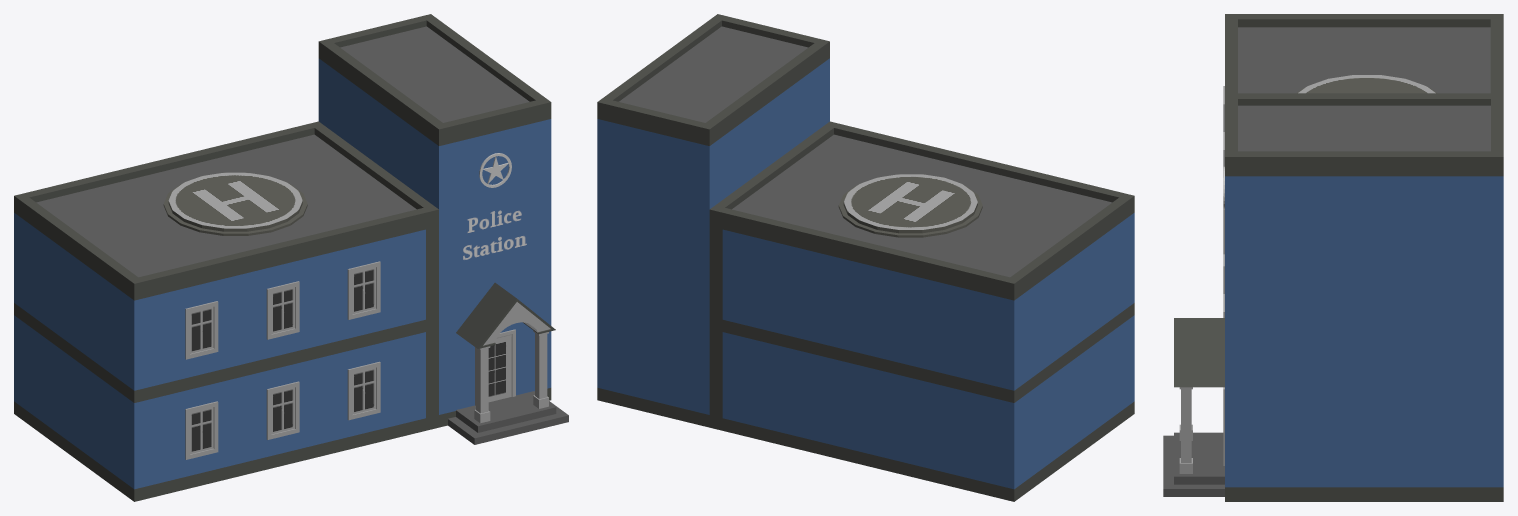
File: spb-police-station.glb
3 renders of one model, left to right at view 1: azimuth 30°, elevation 25°; view 2: azimuth 150°, elevation 25°; view 3: azimuth 270°, elevation 25°, orthographic. The views are drawn at different scales.
Parts seen in each view (by area): view 1: SPB_Police Station; view 2: SPB_Police Station; view 3: SPB_Police Station.
Boxes of the visible parts, <box> form: SPB_Police Station: <box>14,14,568,501</box>; SPB_Police Station: <box>597,14,1134,501</box>; SPB_Police Station: <box>1163,14,1503,501</box>.
Size of the model in its own units: 22.1 by 15.1 by 13.51.
1 material, 1 textured.
